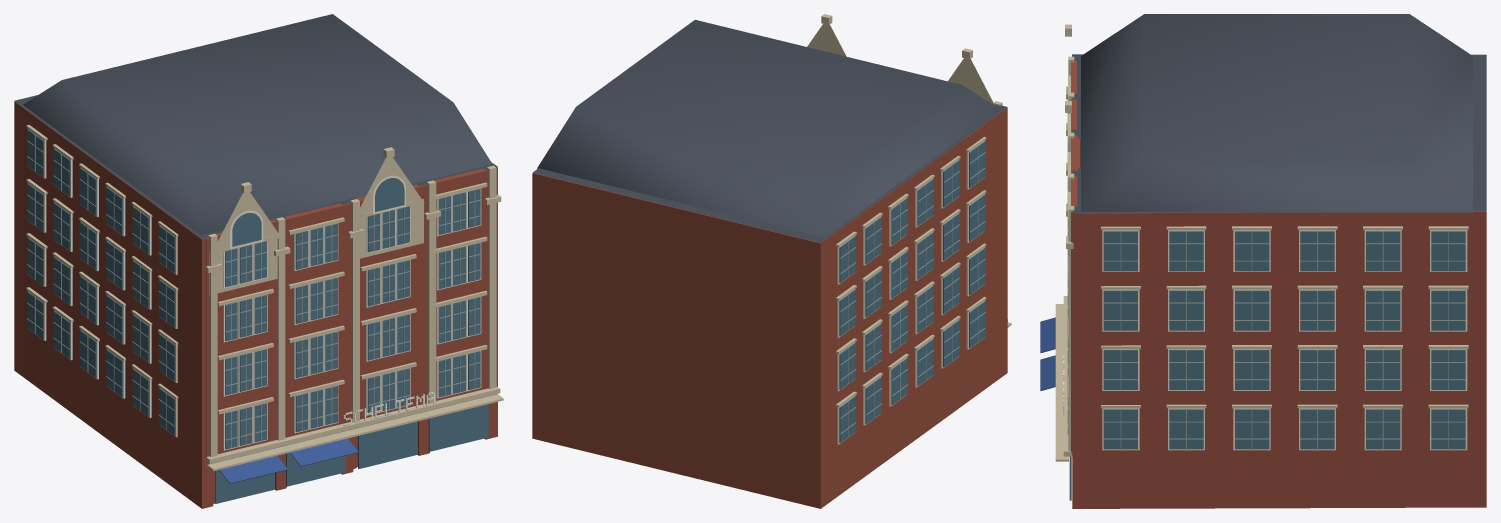
File: scheltema.glb
3 views of the same model, side by side, from view 1: azimuth 30°, elevation 25°; view 2: azimuth 150°, elevation 25°; view 3: azimuth 270°, elevation 25° (orthographic). The views are drawn at different scales.
Parts seen in each view (by area): view 1: scheltema; view 2: scheltema; view 3: scheltema.
Boxes of the visible parts, x1,y1,x2,y2 form: scheltema: [14, 14, 503, 508]; scheltema: [532, 14, 1011, 508]; scheltema: [1040, 14, 1486, 508].
Size of the model in its own units: 24.49 by 24.5 by 28.6.
